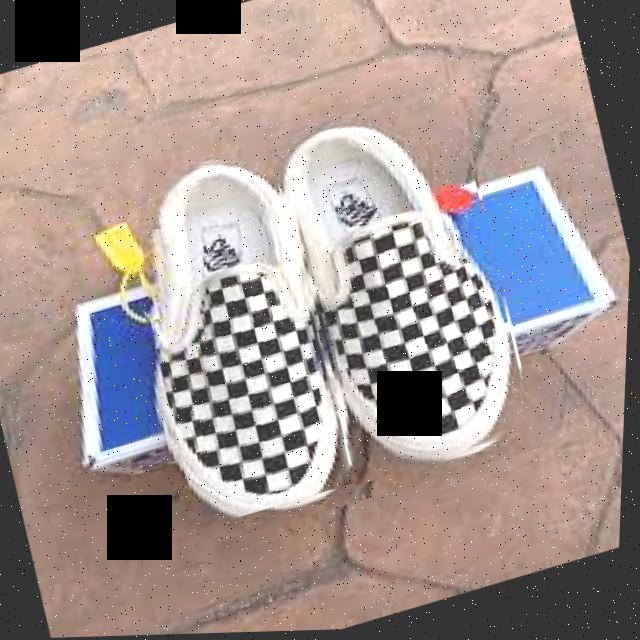shoe: (93, 74, 555, 554), (255, 80, 548, 492), (109, 136, 372, 532)
